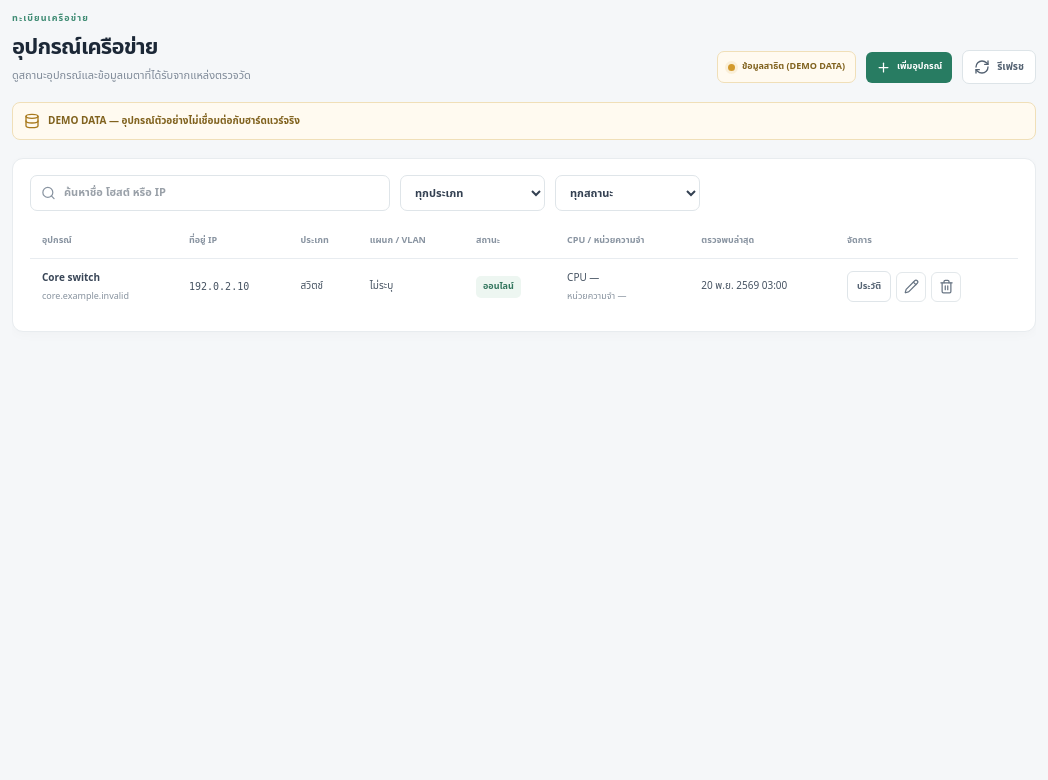
Test case: device inventory page › labels demo inventory and loads API-backed device history
The width and height of the screenshot is (1048, 780).
expect the text "Core switch" is shown: met, box [42,270,100,286]
expect the text "DEMO DATA — อุปกรณ์ตัวอย่างไม่เชื่อมต่อกับฮาร์ดแวร์จริง" is shown: met, box [48,114,300,128]
Click the button "ประวัติ". click: {"x": 869, "y": 287}
box: [847,271,891,302]
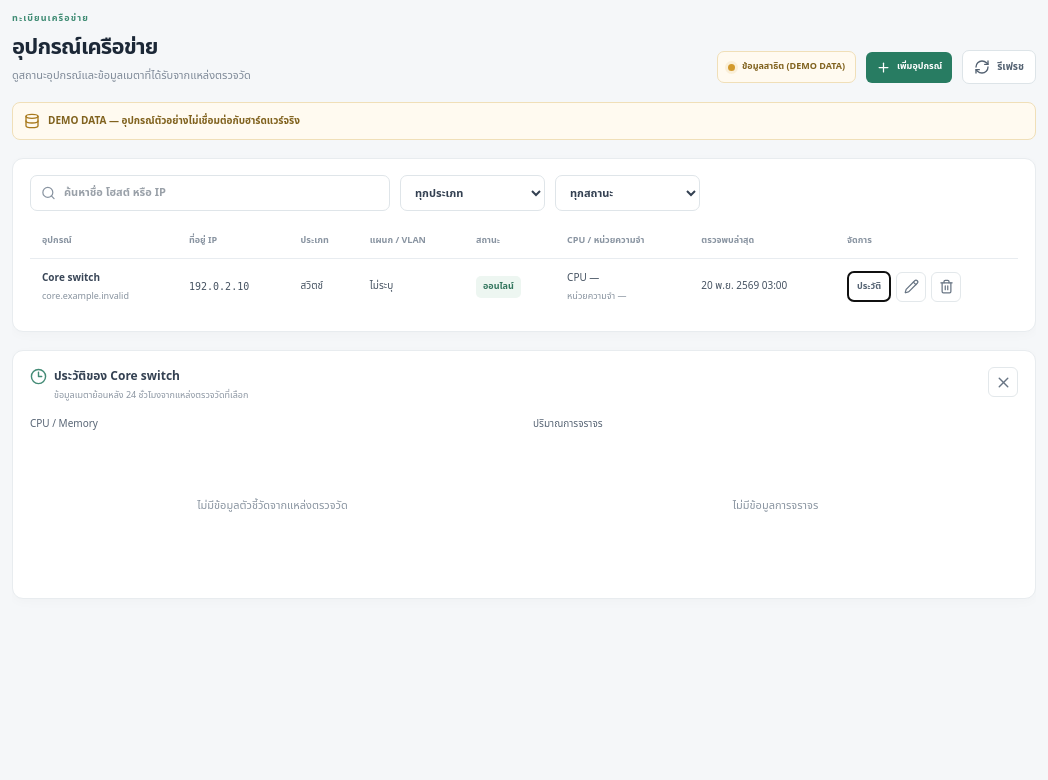
expect the heading "ประวัติของ Core switch" is shown: met, box [54,367,180,385]
